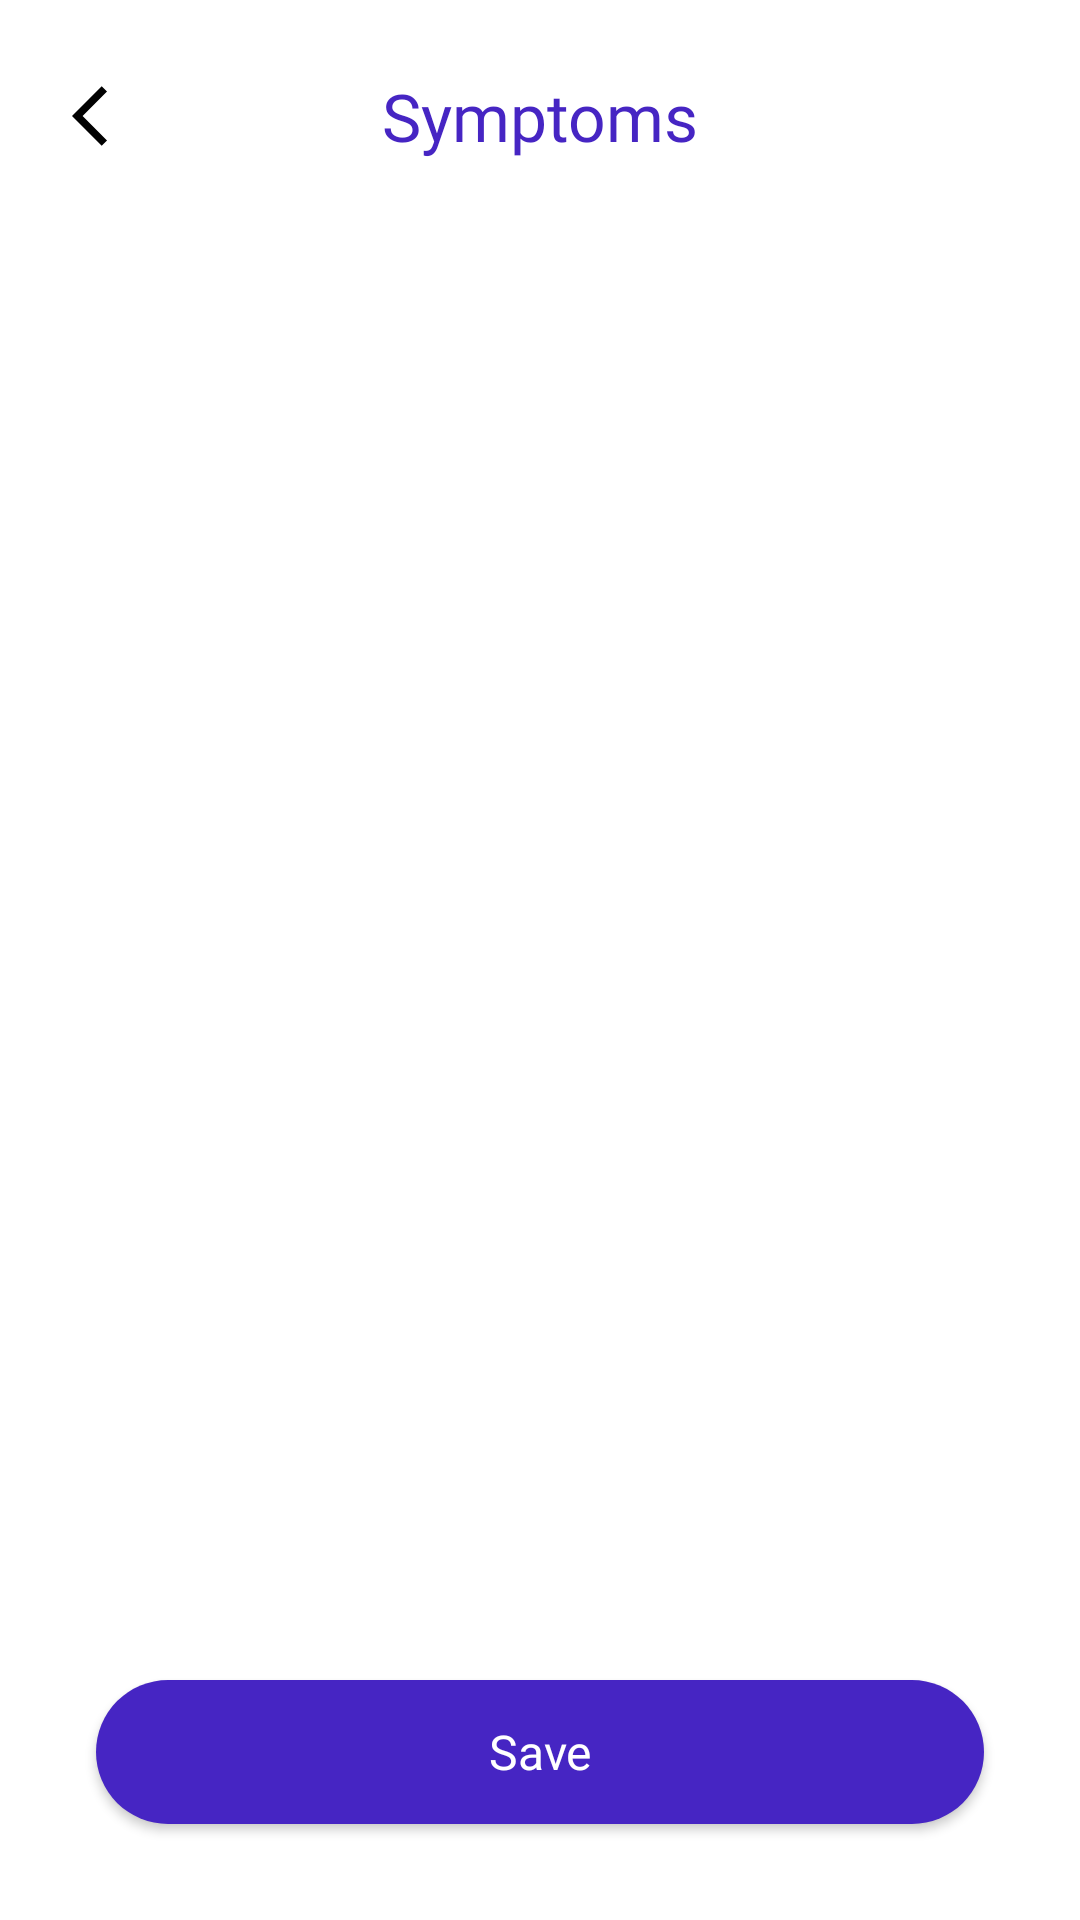

Locate icon controls on the screen. Image size 1080px x 1920px, boxes as bbox=[x1, y1, x2, y2].
back: bbox=[72, 86, 107, 146]
